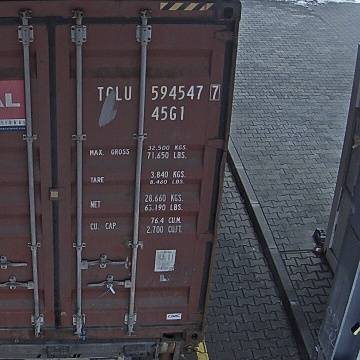serial_id: (97, 85, 218, 100)
